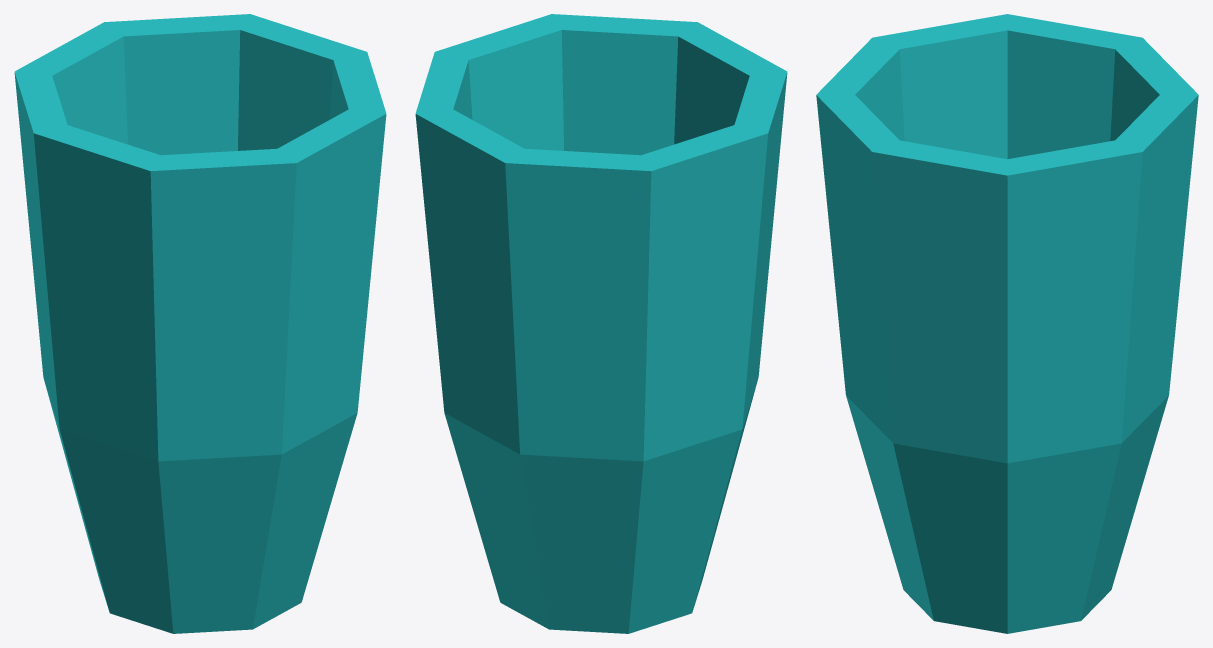
Rendered from kubek.fbx.
3 renders of one model, left to right at view 1: azimuth 30°, elevation 25°; view 2: azimuth 150°, elevation 25°; view 3: azimuth 270°, elevation 25°, orthographic.
Parts seen in each view (by area): view 1: Cylinder; view 2: Cylinder; view 3: Cylinder.
Boxes of the visible parts, x1,y1,x2,y2 form: Cylinder: [14, 14, 386, 633]; Cylinder: [415, 14, 787, 633]; Cylinder: [816, 14, 1198, 633].
Bounding box in the file's own units: 7 × 10 × 7.
